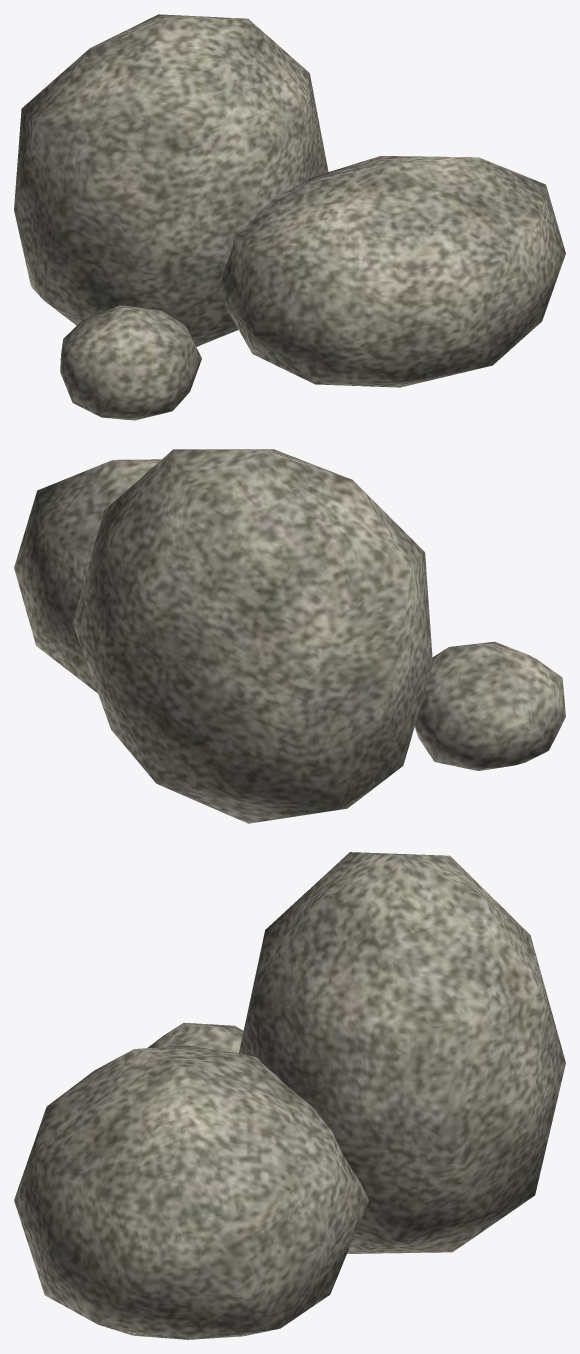
Rendered from River_Stone.glb.
3 views of the same model, one above another, from view 1: azimuth 30°, elevation 25°; view 2: azimuth 150°, elevation 25°; view 3: azimuth 270°, elevation 25° (orthographic). The views are drawn at different scales.
Visible parts, largest first — view 1: River_Stone; view 2: River_Stone; view 3: River_Stone.
Part boxes in pixels (left/top/right/bottom): River_Stone: left=14, top=14, right=565, bottom=420; River_Stone: left=14, top=449, right=565, bottom=823; River_Stone: left=14, top=852, right=565, bottom=1339.
Size of the model in its own units: 0.8888 by 0.5451 by 0.7532.
1 material, 1 textured.
